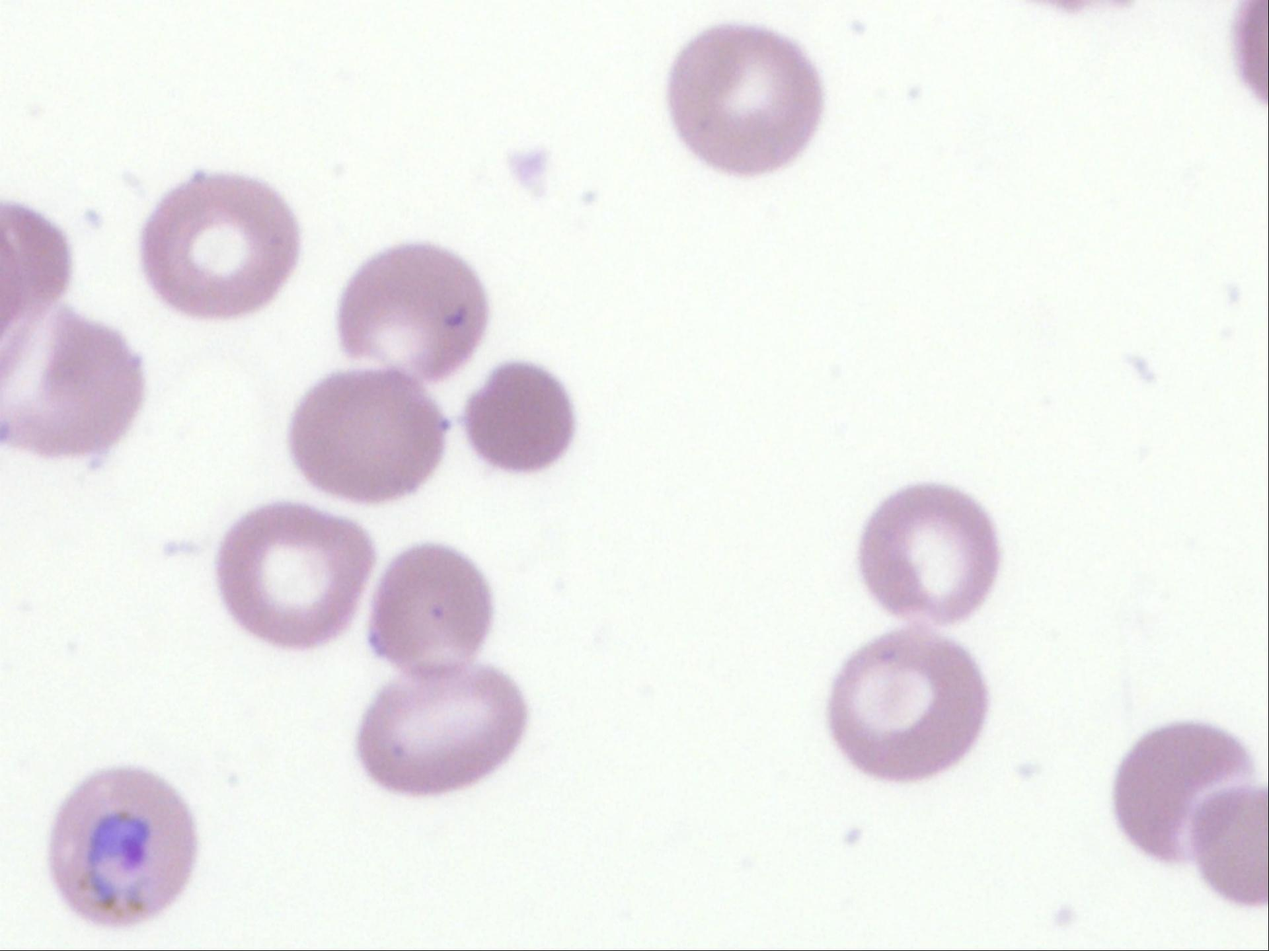Infected: (53, 762, 193, 927)
Uninfected: (831, 628, 987, 780), (139, 172, 301, 317), (216, 498, 373, 642), (664, 23, 817, 168), (359, 668, 526, 796), (291, 365, 443, 504), (0, 313, 145, 454), (344, 245, 492, 382), (858, 483, 997, 625), (1110, 719, 1249, 854), (373, 542, 490, 683), (463, 362, 574, 471), (1190, 793, 1269, 905)
